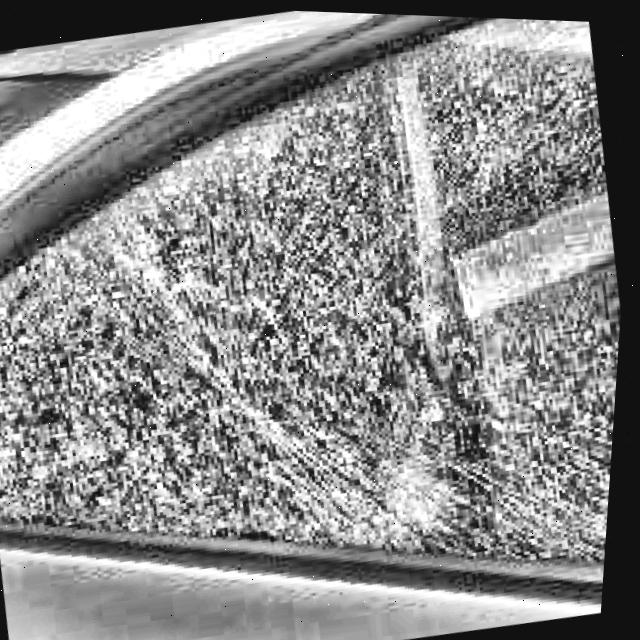glass_shatter: (48, 173, 405, 526)
